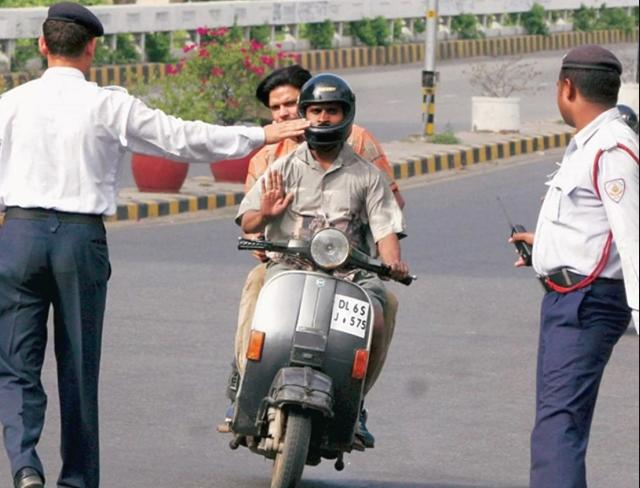licensePlate: (335, 296, 373, 337)
motorcycle: (229, 60, 412, 488)
withHelmet: (303, 77, 360, 152)
withoutHelmet: (256, 67, 313, 133)
